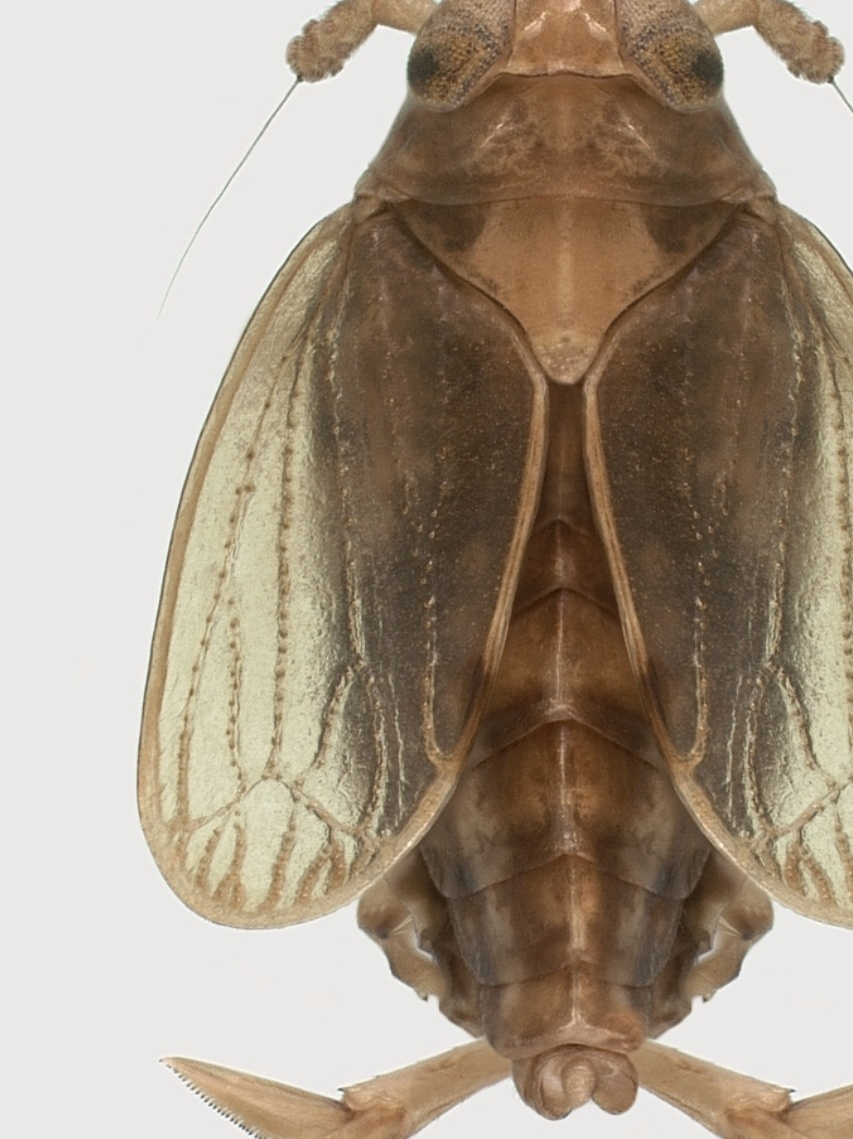Brown_hopper: (148, 10, 845, 1131)
